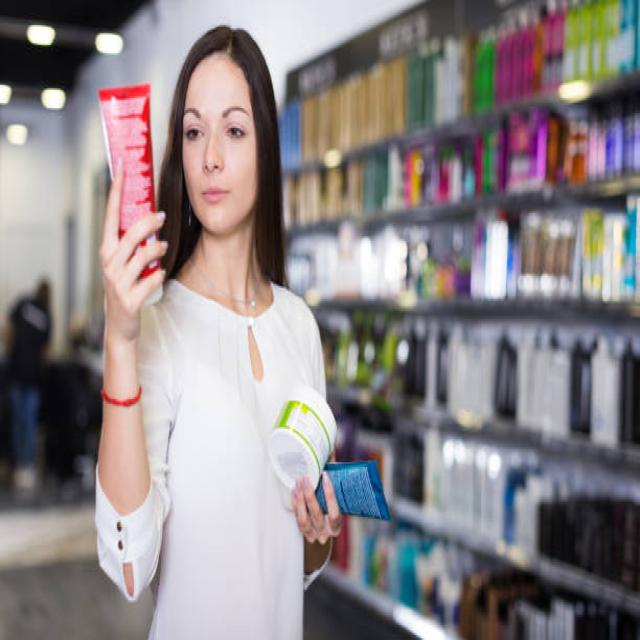article: (98, 85, 155, 234), (267, 384, 336, 487), (326, 460, 389, 517)
hands: (99, 166, 167, 512), (291, 474, 341, 570)
person: (95, 27, 342, 638)
